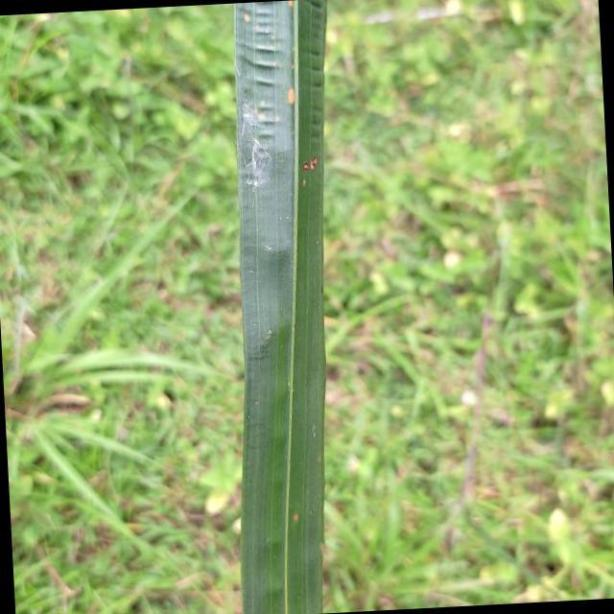Boron: (229, 0, 326, 614)
